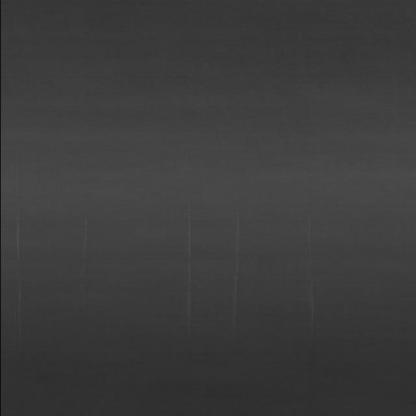waist_folding: (52, 222, 364, 333)
